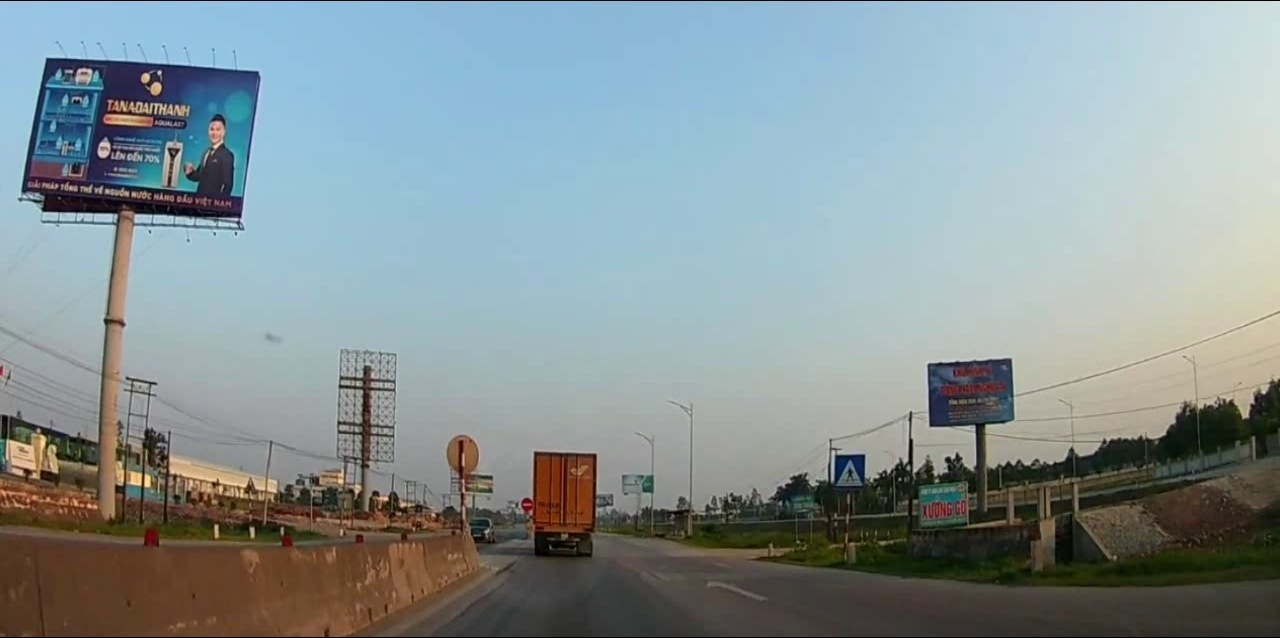Cam di nguoc chieu: (520, 497, 534, 514)
Nguoi di bo: (832, 452, 867, 489)
